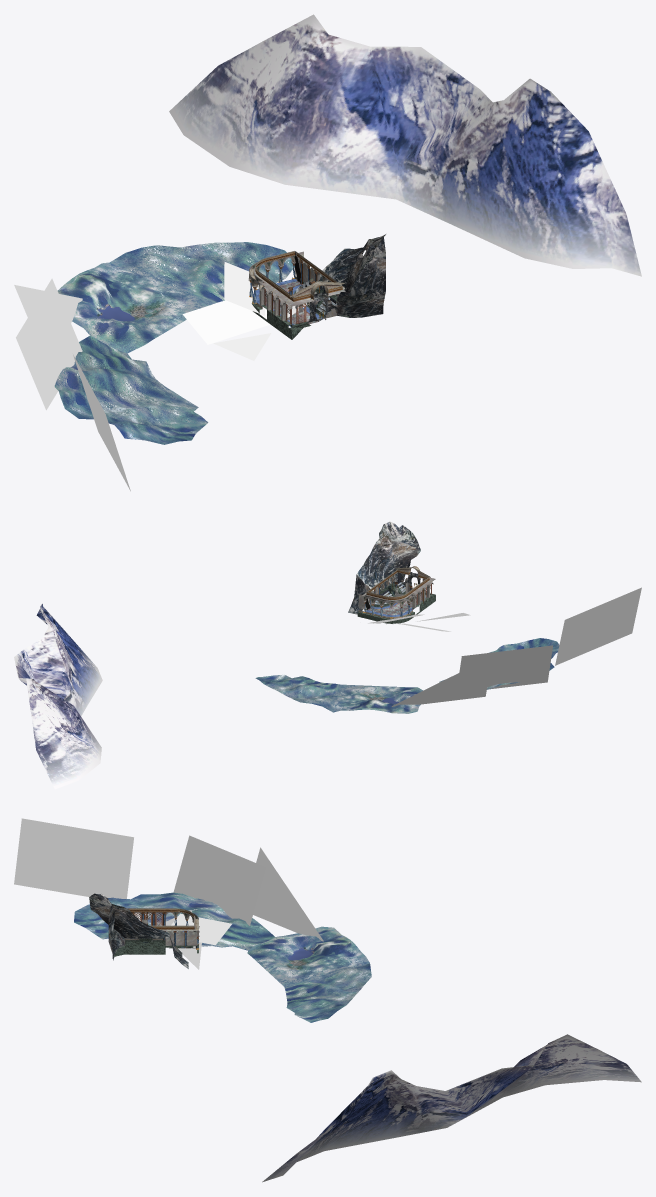
The model's file is stage_m003.glb.
The picture shows the model from 3 angles, top to bottom: view 1: azimuth 30°, elevation 25°; view 2: azimuth 150°, elevation 25°; view 3: azimuth 270°, elevation 25°; orthographic projection. The views are drawn at different scales.
Parts seen in each view (by area): view 1: g1p05, g1p06, g1p07, g1p15, g0p115, g1p18, g1p16, g1p14, g0p67, g0p03, g1p17, g1p11; view 2: g1p05, g1p16, g1p15, g1p06, g1p07, g1p17, g0p67, g0p65, g0p03; view 3: g1p05, g1p16, g1p06, g1p15, g1p07, g1p17, g0p67, g1p14, g0p73.
Part boxes in pixels (bbox=[...]): g1p05: bbox=[169, 14, 641, 276]; g1p06: bbox=[54, 242, 294, 444]; g1p07: bbox=[57, 262, 212, 353]; g1p15: bbox=[16, 278, 82, 410]; g0p115: bbox=[336, 237, 385, 317]; g1p18: bbox=[182, 300, 269, 344]; g1p16: bbox=[73, 354, 130, 491]; g1p14: bbox=[224, 262, 264, 315]; g0p67: bbox=[318, 237, 379, 297]; g0p03: bbox=[249, 251, 344, 308]; g1p17: bbox=[14, 285, 82, 322]; g1p11: bbox=[213, 333, 271, 360]; g1p05: bbox=[14, 603, 102, 789]; g1p16: bbox=[555, 587, 641, 665]; g1p15: bbox=[459, 645, 552, 689]; g1p06: bbox=[255, 638, 559, 712]; g1p07: bbox=[333, 684, 422, 713]; g1p17: bbox=[391, 657, 491, 706]; g0p67: bbox=[356, 530, 402, 591]; g0p65: bbox=[381, 521, 420, 567]; g0p03: bbox=[358, 566, 430, 618]; g1p05: bbox=[262, 1034, 641, 1182]; g1p16: bbox=[14, 818, 133, 898]; g1p06: bbox=[74, 892, 371, 1022]; g1p15: bbox=[173, 835, 266, 925]; g1p07: bbox=[247, 926, 369, 986]; g1p17: bbox=[253, 847, 323, 941]; g0p67: bbox=[112, 904, 169, 938]; g1p14: bbox=[171, 913, 231, 945]; g0p73: bbox=[113, 941, 169, 956].
Bounding box in the file's own units: 227 × 64.68 × 236.
51 materials, 51 textured.
